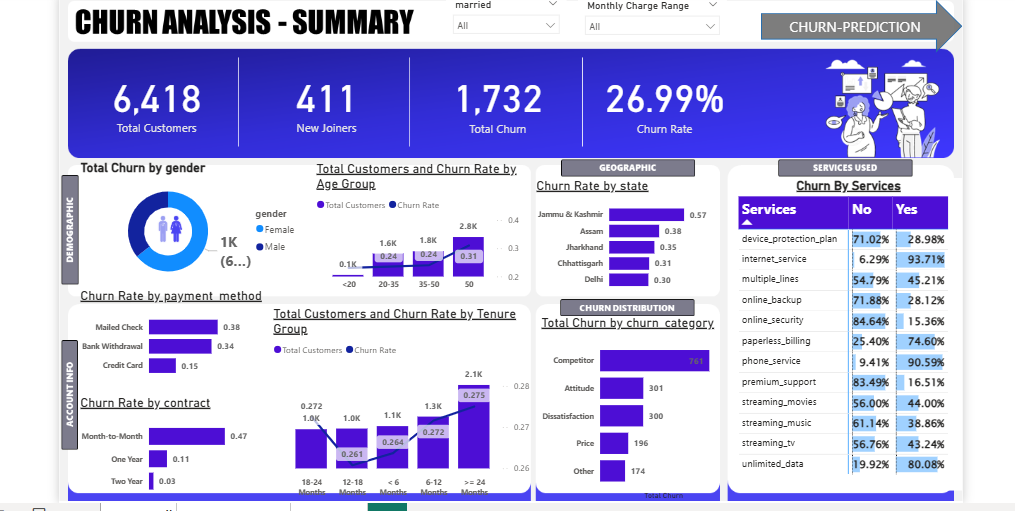

What the dashboard file says about the page in this screenshot:
{"tool":"powerbi","page":{"name":"Page 1","canvas":[1280,720],"ordinal":0},"visuals":[{"type":"card","fields":{"Values":["Tbl_Measures.Total Customers"]},"box":[31.2,81.4,214.8,138.6],"z":0},{"type":"card","fields":{"Values":["Tbl_Measures.Total Churn"]},"box":[509.2,76.2,226.9,149],"z":1000},{"type":"card","fields":{"Values":["Tbl_Measures.New Joiners"]},"box":[261.5,81.4,233.8,138.6],"z":2000},{"type":"card","fields":{"Values":["Tbl_Measures.Churn Rate"]},"box":[751.7,74.5,214.8,150.7],"z":3000},{"type":"donutChart","fields":{"Category":["public prod_churn.gender"],"Y":["Tbl_Measures.Total Churn"]},"box":[25.5,233.9,323.1,181.4],"z":4000},{"type":"lineStackedColumnComboChart","fields":{"Category":["public prod_churn (2).Age Group"],"Y":["Tbl_Measures.Total Customers"],"Y2":["Tbl_Measures.Churn Rate"]},"box":[360,235.3,297.6,192.8],"z":5000},{"type":"clusteredBarChart","fields":{"Y":["Tbl_Measures.Churn Rate"],"Category":["public prod_churn.payment_method"]},"box":[25.5,415.3,283.5,137.5],"z":6000},{"type":"clusteredBarChart","fields":{"Category":["public prod_churn.contract"],"Y":["Tbl_Measures.Churn Rate"]},"box":[25.5,566.9,304.7,153.1],"z":7000},{"type":"lineStackedColumnComboChart","fields":{"Category":["Mapping_TenureGrp.Tenure Group"],"Y":["Tbl_Measures.Total Customers"],"Y2":["Tbl_Measures.Churn Rate"]},"box":[299.1,440.8,372.8,279.2],"z":8000},{"type":"clusteredBarChart","fields":{"Category":["public prod_churn.state"],"Y":["Tbl_Measures.Churn Rate"]},"box":[672,259.8,263.3,168],"z":9000},{"type":"clusteredBarChart","fields":{"Category":["public prod_churn.churn_category"],"Y":["Tbl_Measures.Total Churn"]},"box":[679,453.8,273.7,266.7],"z":10000},{"type":"pivotTable","title":"Churn By Services","fields":{"Rows":["Product_Services.Services"],"Values":["Sum(Product_Services.Churn Status )"],"Columns":["Product_Services.Status"]},"box":[957.8,259.8,322.2,443.4],"z":11000},{"type":"image","box":[97.8,301.9,120.5,58.1],"z":11500},{"type":"slicer","fields":{"Values":["public prod_churn.Monthly Charge Status"]},"box":[735.8,1.5,210.7,58.5],"z":12000},{"type":"slicer","fields":{"Values":["public prod_churn.married"]},"box":[548.6,0,171.2,60],"z":14000},{"type":"shape","box":[994.7,7.3,285.3,74.6],"z":14001}]}

Visuals, with their boxes on the page's 1280x720 design canvas (x1, y1, x2, y2). These are canvas units, not pixel positions in the 1015x511 screenshot, which may show the page scaled, cropped or inside an application window:
card - Tbl_Measures.Total Customers: box=[31, 81, 246, 220]
card - Tbl_Measures.Total Churn: box=[509, 76, 736, 225]
card - Tbl_Measures.New Joiners: box=[262, 81, 495, 220]
card - Tbl_Measures.Churn Rate: box=[752, 74, 966, 225]
donutChart - public prod_churn.gender x Tbl_Measures.Total Churn: box=[26, 234, 349, 415]
lineStackedColumnComboChart - public prod_churn (2).Age Group x Tbl_Measures.Total Customers: box=[360, 235, 658, 428]
clusteredBarChart - Tbl_Measures.Churn Rate x public prod_churn.payment_method: box=[26, 415, 309, 553]
clusteredBarChart - public prod_churn.contract x Tbl_Measures.Churn Rate: box=[26, 567, 330, 720]
lineStackedColumnComboChart - Mapping_TenureGrp.Tenure Group x Tbl_Measures.Total Customers: box=[299, 441, 672, 720]
clusteredBarChart - public prod_churn.state x Tbl_Measures.Churn Rate: box=[672, 260, 935, 428]
clusteredBarChart - public prod_churn.churn_category x Tbl_Measures.Total Churn: box=[679, 454, 953, 720]
"Churn By Services" pivotTable: box=[958, 260, 1280, 703]
image: box=[98, 302, 218, 360]
slicer - public prod_churn.Monthly Charge Status: box=[736, 2, 946, 60]
slicer - public prod_churn.married: box=[549, 0, 720, 60]
shape: box=[995, 7, 1280, 82]
